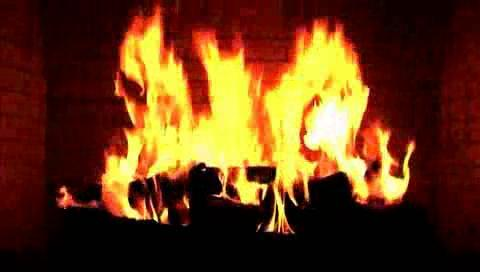fire: (115, 25, 392, 213)
